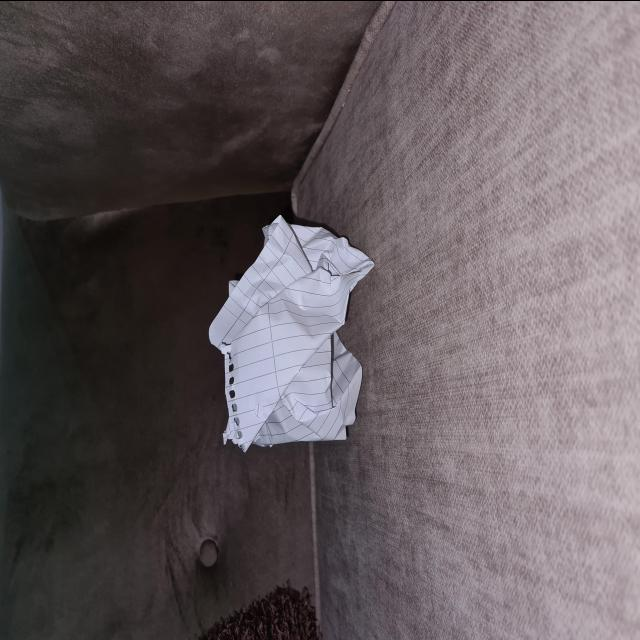kertas: (208, 206, 372, 452)
